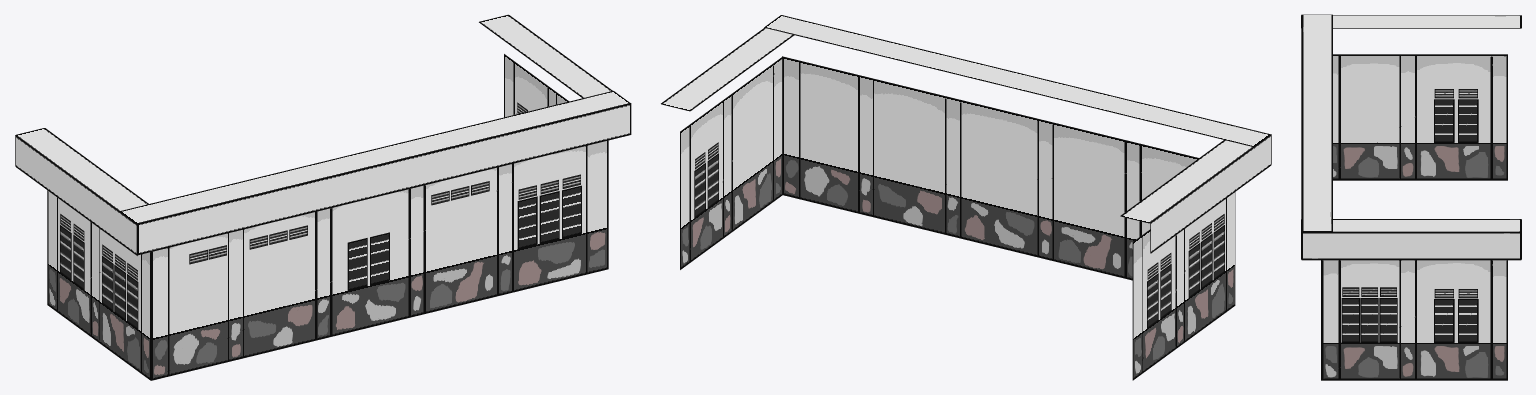
File: Unlit Lower Middle Part.gltf
3 renders of one model, left to right at view 1: azimuth 30°, elevation 25°; view 2: azimuth 150°, elevation 25°; view 3: azimuth 270°, elevation 25°, orthographic. The views are drawn at different scales.
Parts seen in each view (by area): view 1: default; view 2: default; view 3: default.
Part boxes in pixels (left/top/right/bottom): default: left=15, top=14, right=631, bottom=380; default: left=661, top=15, right=1271, bottom=380; default: left=1301, top=14, right=1521, bottom=380.
Bounding box in the file's own units: 65.88 × 21.84 × 28.37.
Materials: 1 (1 with a texture image).
